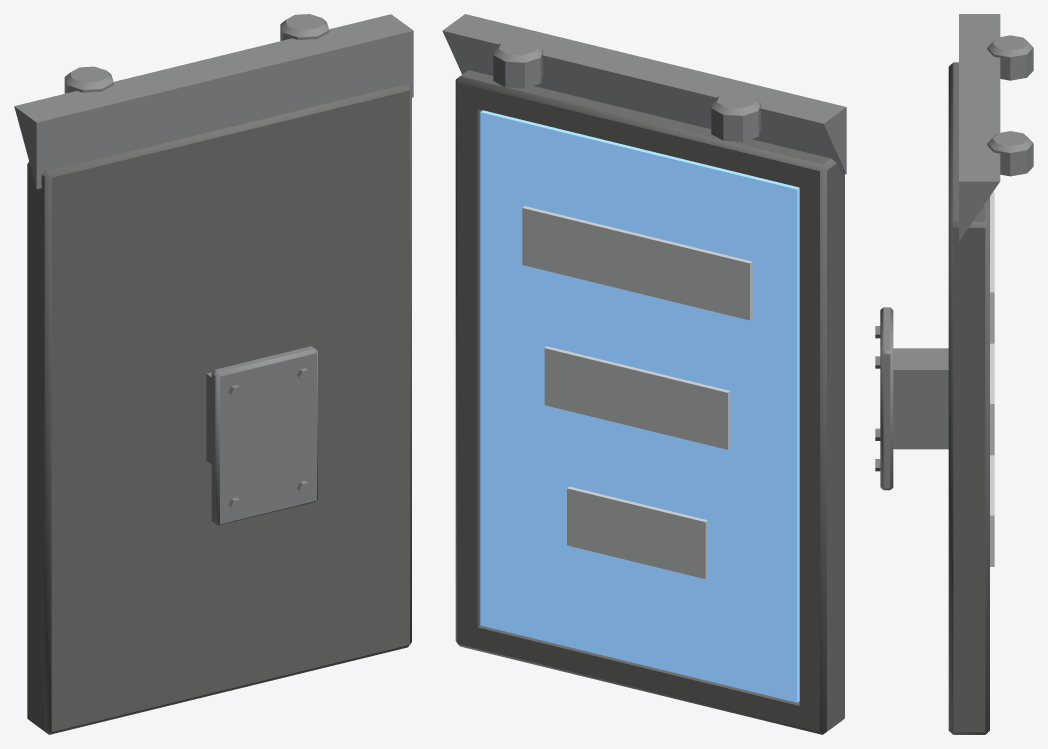
Rendered from prop_holo_sign.glb.
3 renders of one model, left to right at view 1: azimuth 30°, elevation 25°; view 2: azimuth 150°, elevation 25°; view 3: azimuth 270°, elevation 25°, orthographic. The views are drawn at different scales.
Visible parts, largest first — view 1: prop_holo_sign; view 2: prop_holo_sign; view 3: prop_holo_sign.
Boxes of the visible parts, left/top/right/bottom form: prop_holo_sign: left=14, top=14, right=413, bottom=734; prop_holo_sign: left=442, top=14, right=846, bottom=734; prop_holo_sign: left=875, top=14, right=1033, bottom=734.
Size of the model in its own units: 1.54 by 2.42 by 0.615.
